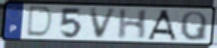5: (58, 7, 85, 40)
A: (146, 8, 179, 42)
D: (24, 5, 55, 39)
H: (116, 9, 150, 41)
Q: (179, 10, 209, 42)
V: (88, 7, 119, 41)
